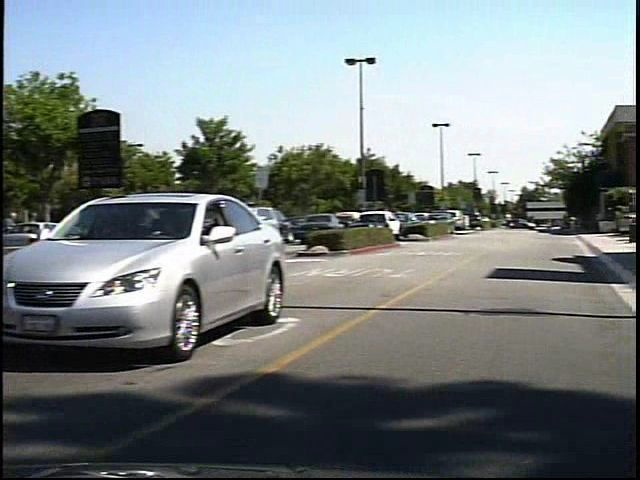person: (514, 210, 527, 233)
